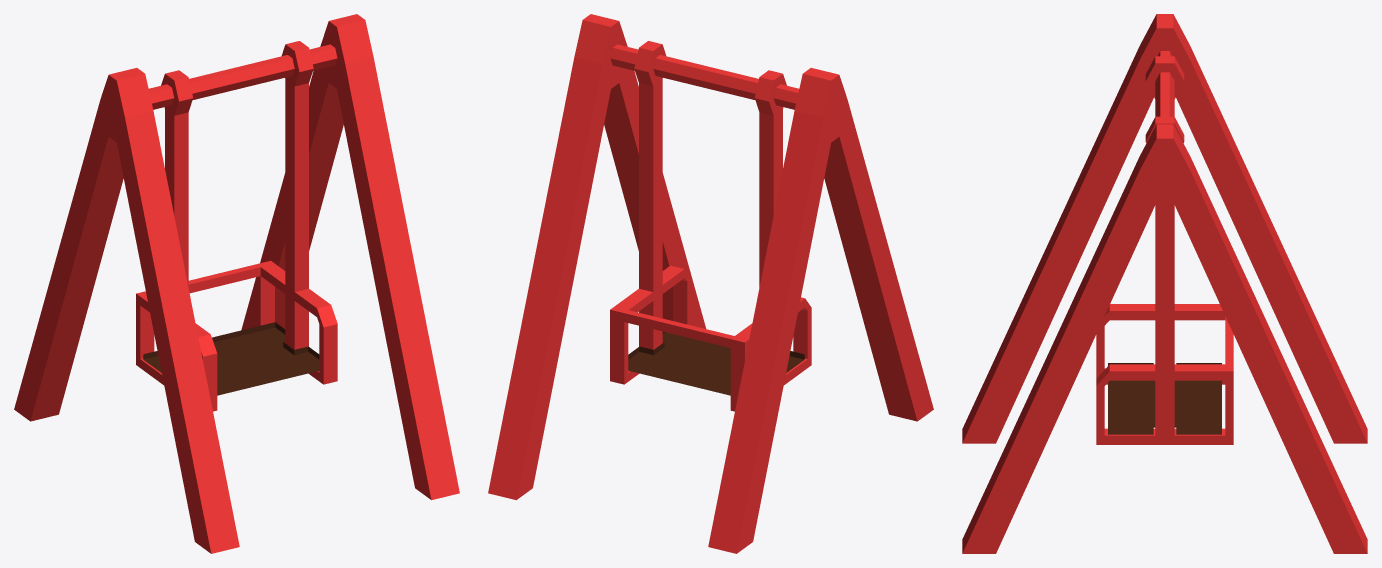
Rendered from play_swing.glb.
3 renders of one model, left to right at view 1: azimuth 30°, elevation 25°; view 2: azimuth 150°, elevation 25°; view 3: azimuth 270°, elevation 25°, orthographic. The views are drawn at different scales.
Parts seen in each view (by area): view 1: swing, swing-seat; view 2: swing, swing-seat; view 3: swing, swing-seat.
Part boxes in pixels (<box>): swing: <box>14,14,459,553</box>; swing-seat: <box>143,322,319,395</box>; swing: <box>488,14,933,553</box>; swing-seat: <box>628,331,804,395</box>; swing: <box>962,14,1367,553</box>; swing-seat: <box>1108,363,1221,434</box>.
Size of the model in its own units: 1.55 by 2.4 by 2.12.
